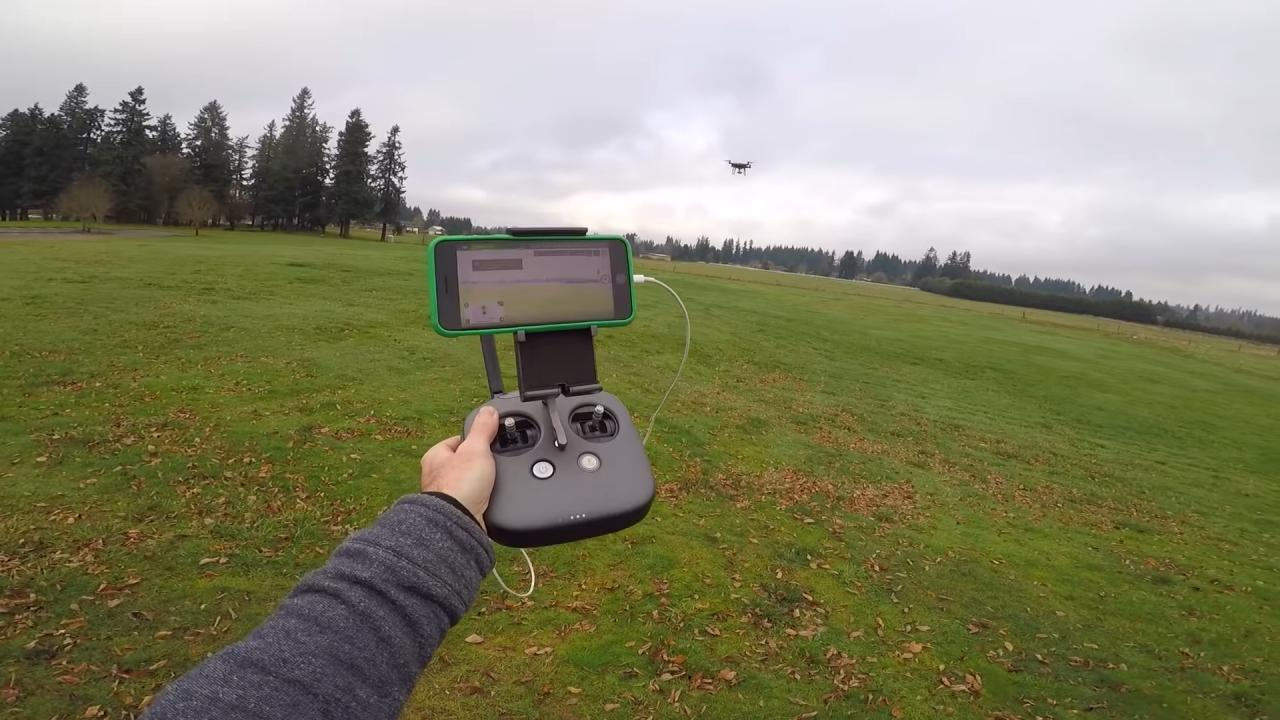Drone: (712, 151, 767, 184)
